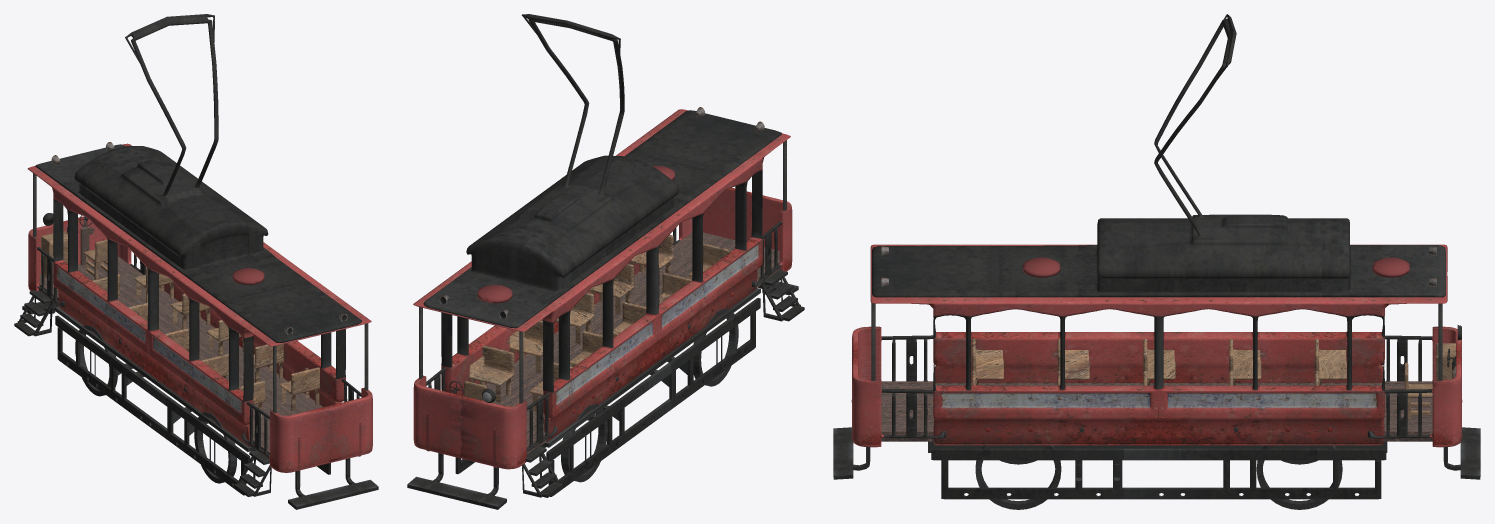
The model's file is kereta listrik.fbx.
3 renders of one model, left to right at view 1: azimuth 30°, elevation 25°; view 2: azimuth 150°, elevation 25°; view 3: azimuth 270°, elevation 25°, orthographic. The views are drawn at different scales.
Parts seen in each view (by area): view 1: Cube.008; view 2: Cube.008; view 3: Cube.008.
Boxes of the visible parts, bbox=[...] form: Cube.008: bbox=[14, 14, 378, 509]; Cube.008: bbox=[407, 14, 804, 509]; Cube.008: bbox=[833, 14, 1480, 509].
Bounding box in the file's own units: 379 × 1173 × 1509.
5 materials, 5 textured.
